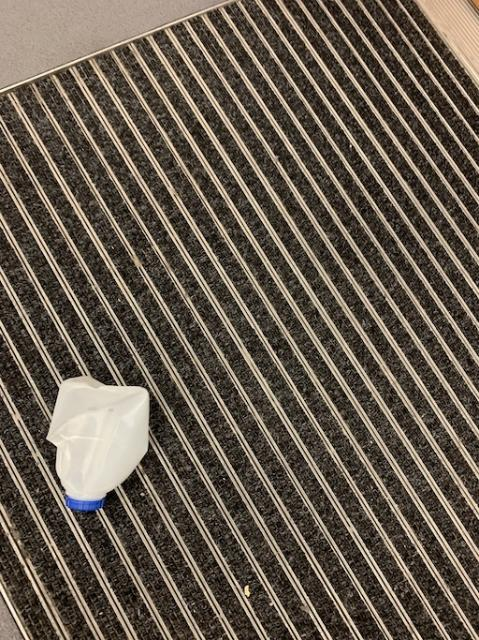plastic: (46, 376, 148, 510)
